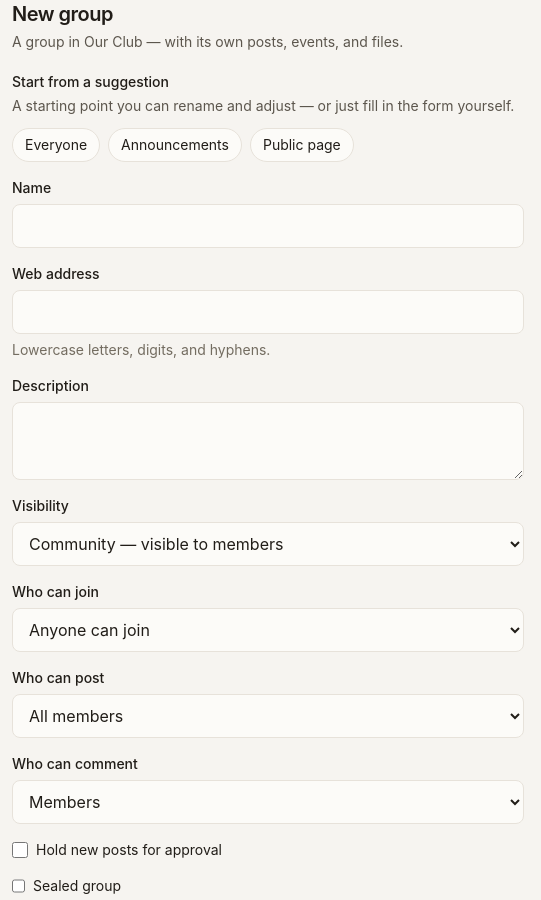
Test: new group page › renders the slug field error and stays put when the server rejects a taken slug
This screenshot has width=541, height=900.
In the field with id "group-name": (268, 226) [12, 204, 524, 248], type "Everyone"
(page scrolled)
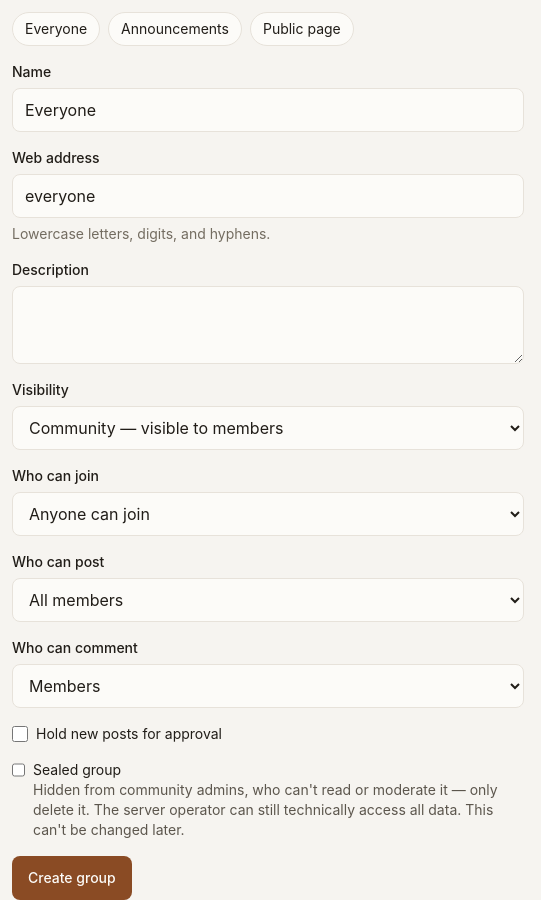
Click the button with id "group-create-submit": (72, 878) [12, 856, 132, 899]
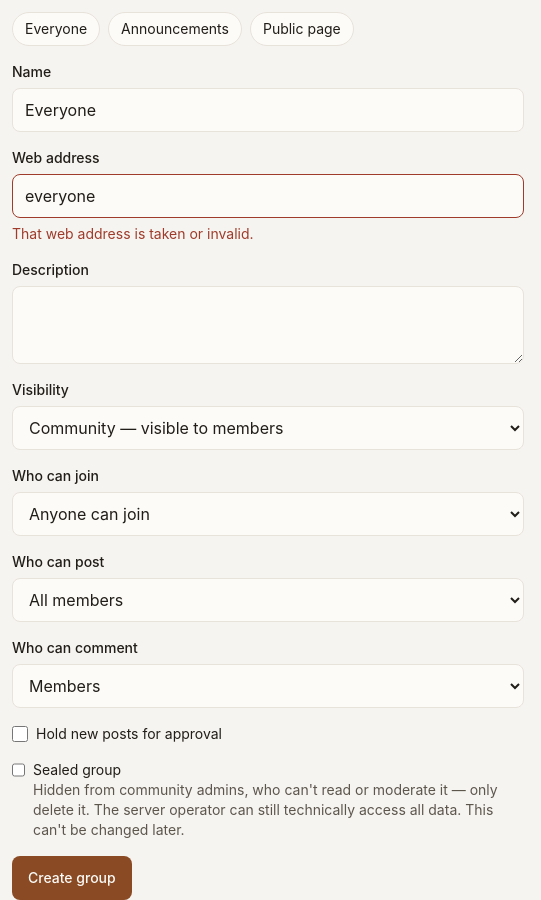
Check: the text "That web address is taken or invalid." is shown, box [12, 225, 254, 242]
